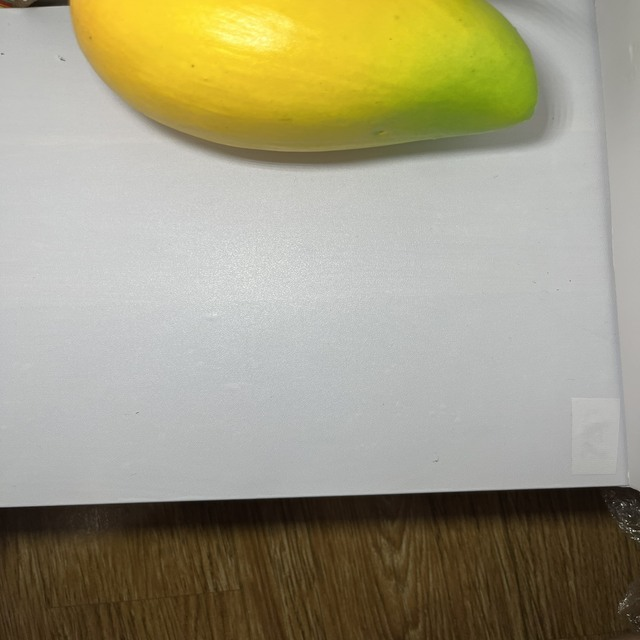Xoai: (60, 0, 546, 161)
